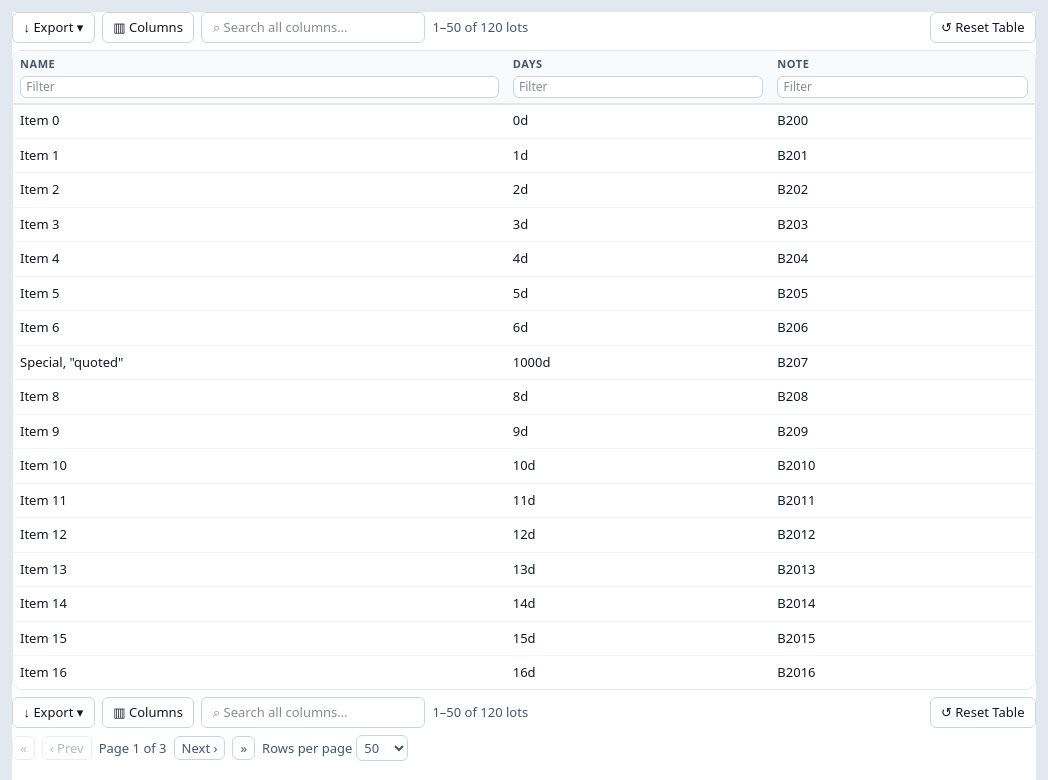
F18-FR-01: a numeric column sorts by its sort value; Reset Table clears sort and column filters but keeps the search
Step 1. Click the button "Days" → [534, 65], box 513,56 -> 555,73
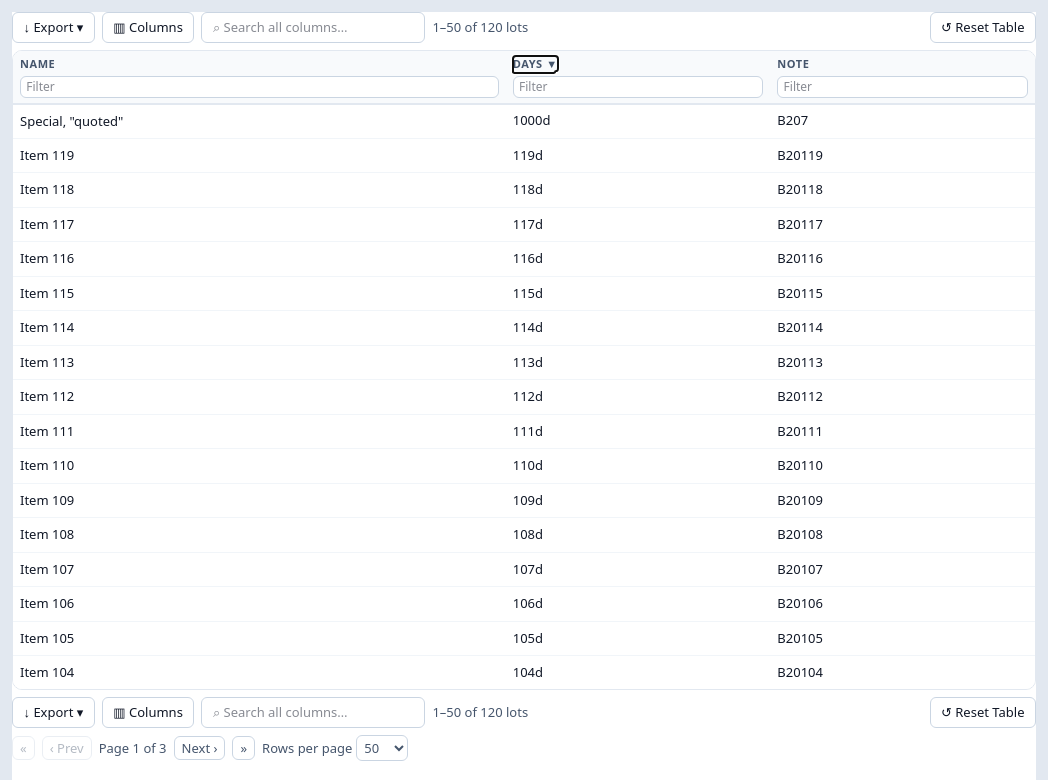
Check: the cell "Special, \"quoted\"" reads "Special, \"quoted\"", box 20,111 -> 123,129
Step 2. Type "Item" into the field named "Filter Name" → [259, 87], box 20,76 -> 499,98
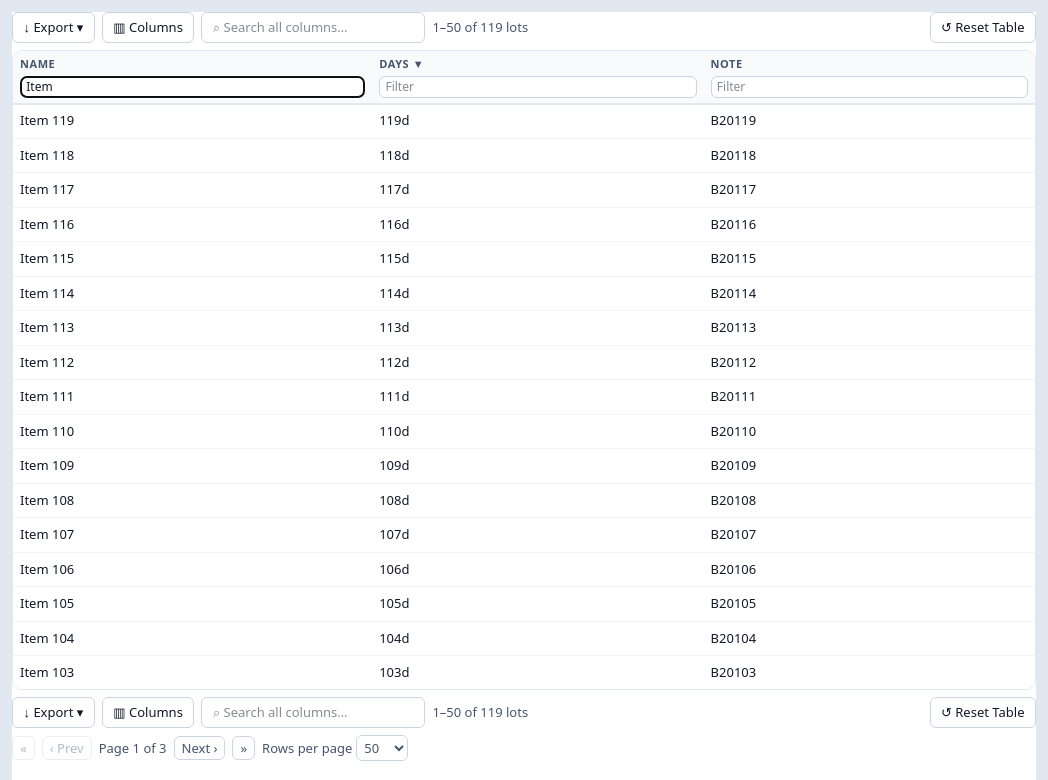
Step 3. Type "B20" into the 1st field labelled "Search all columns" → [313, 28], box 201,12 -> 425,43
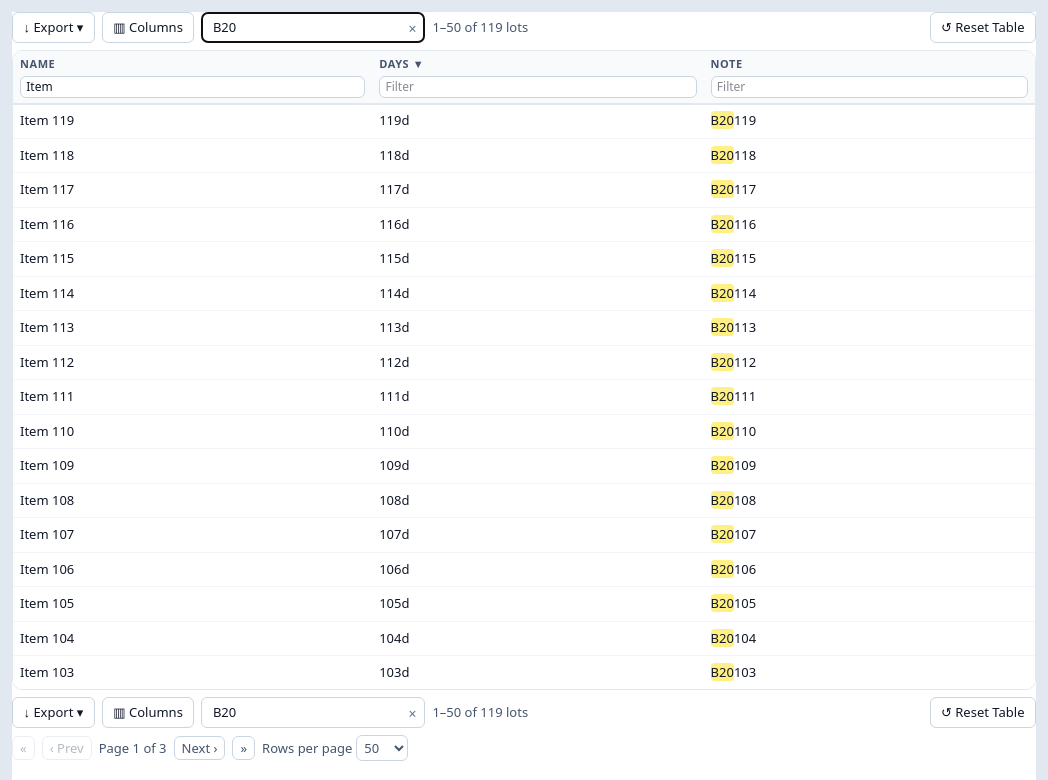
Step 4. Click the 1st button "↺ Reset Table" → [983, 28], box 930,12 -> 1036,43
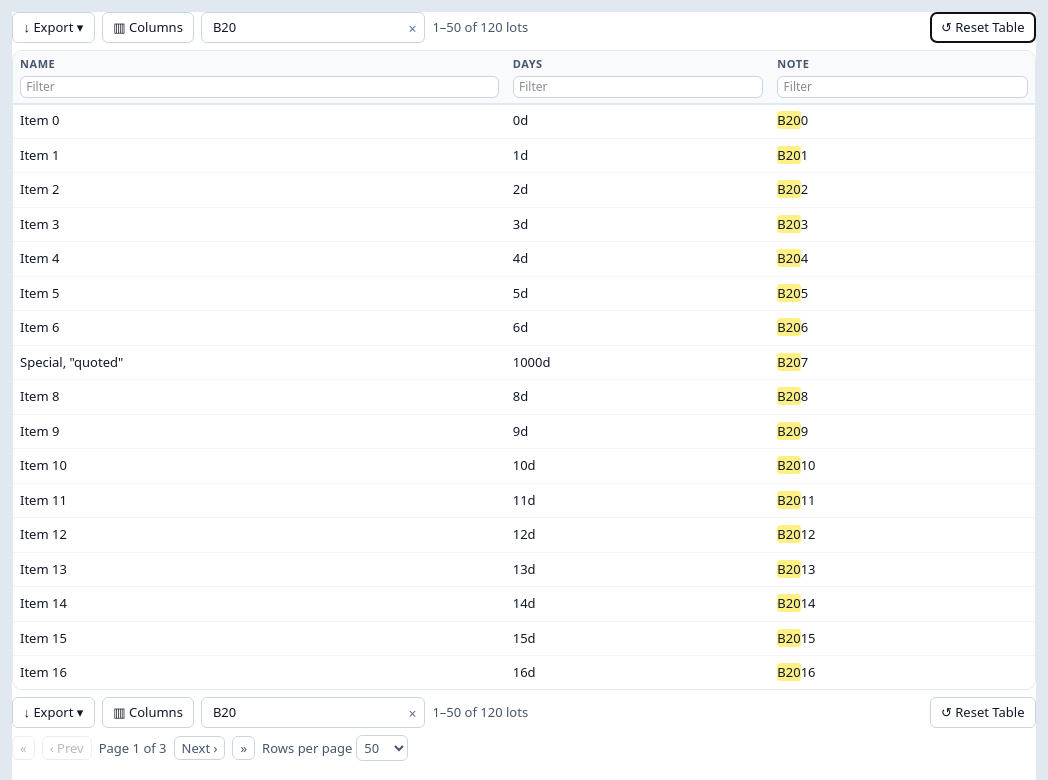
Check: the field named "Filter Name" is empty, box 20,76 -> 499,98
